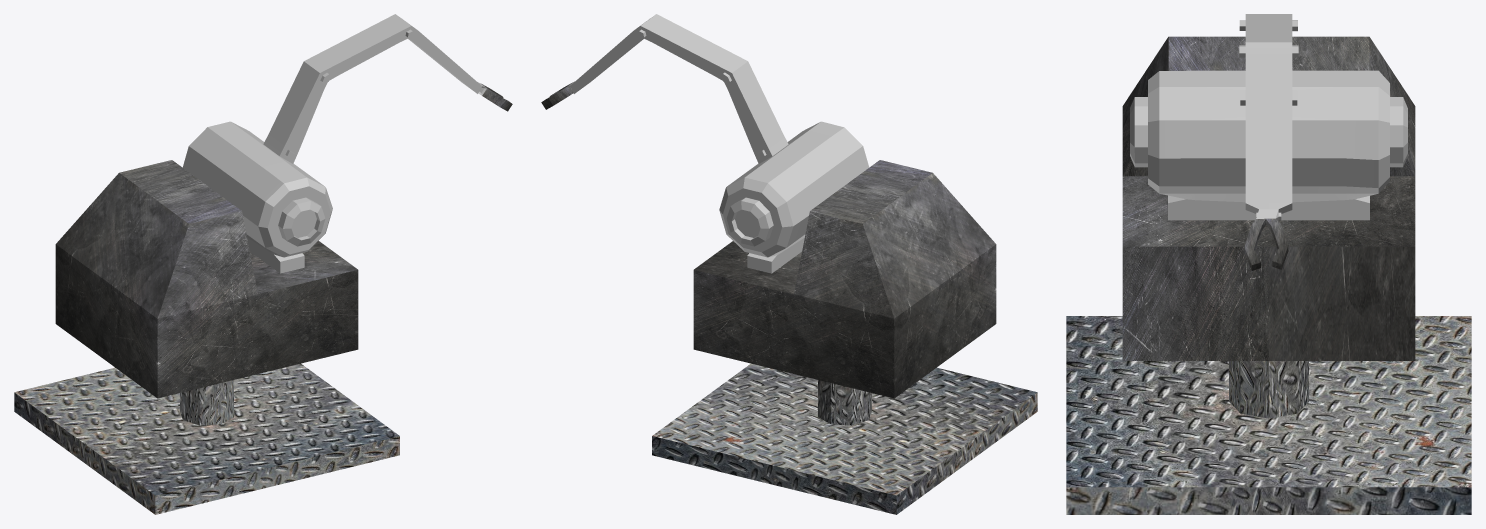
File: Maq_Garra.fbx
The picture shows the model from 3 angles, left to right: view 1: azimuth 30°, elevation 25°; view 2: azimuth 150°, elevation 25°; view 3: azimuth 270°, elevation 25°; orthographic projection. The views are drawn at different scales.
Visible parts, largest first — view 1: Metal_Riscado2; view 2: Metal_Riscado2; view 3: Metal_Riscado2.
Part boxes in pixels (x1,y1,x2,y2): Metal_Riscado2: (14,14,512,514); Metal_Riscado2: (541,14,1037,514); Metal_Riscado2: (1066,14,1471,514).
Size of the model in its own units: 5.57 by 4.61 by 3.23.
